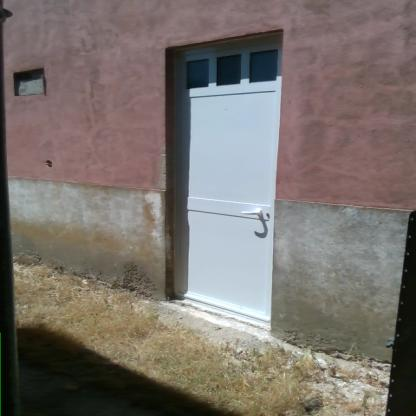closed: (157, 28, 291, 321)
